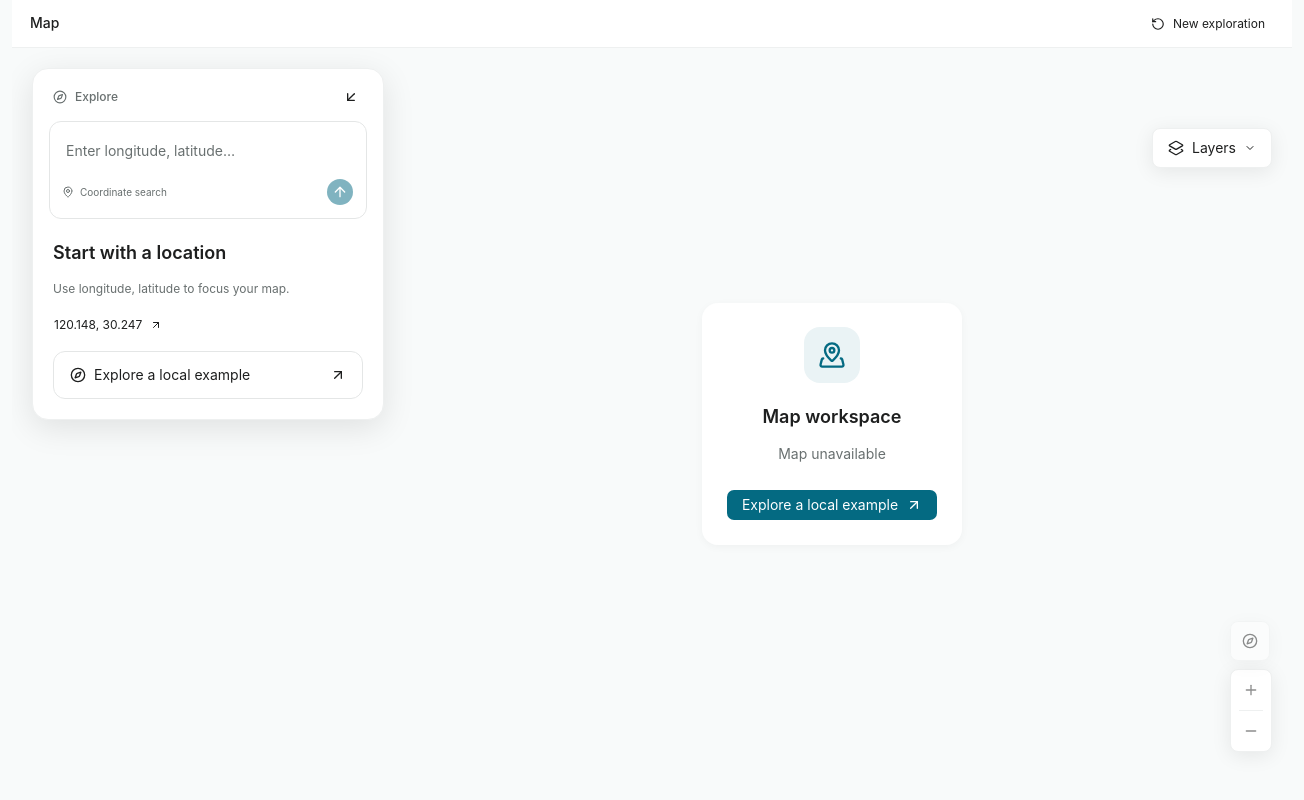
Test: does not claim free-form or sample coordinate searches are live
The width and height of the screenshot is (1304, 800).
Type "London" into the field named "Search map". click: (208,150)
box: [58,130,358,170]
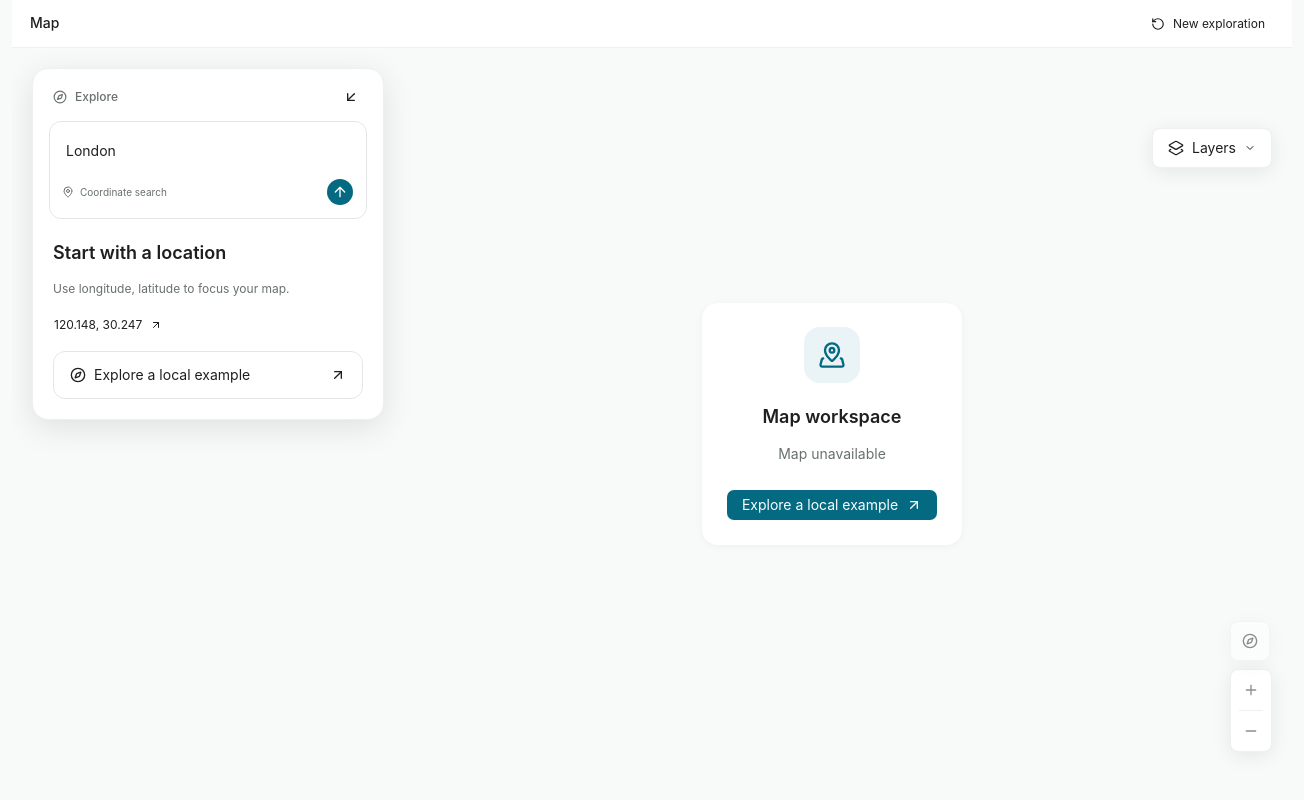
Click the button named "Search map". click: (340,192)
box: [326,178,354,206]
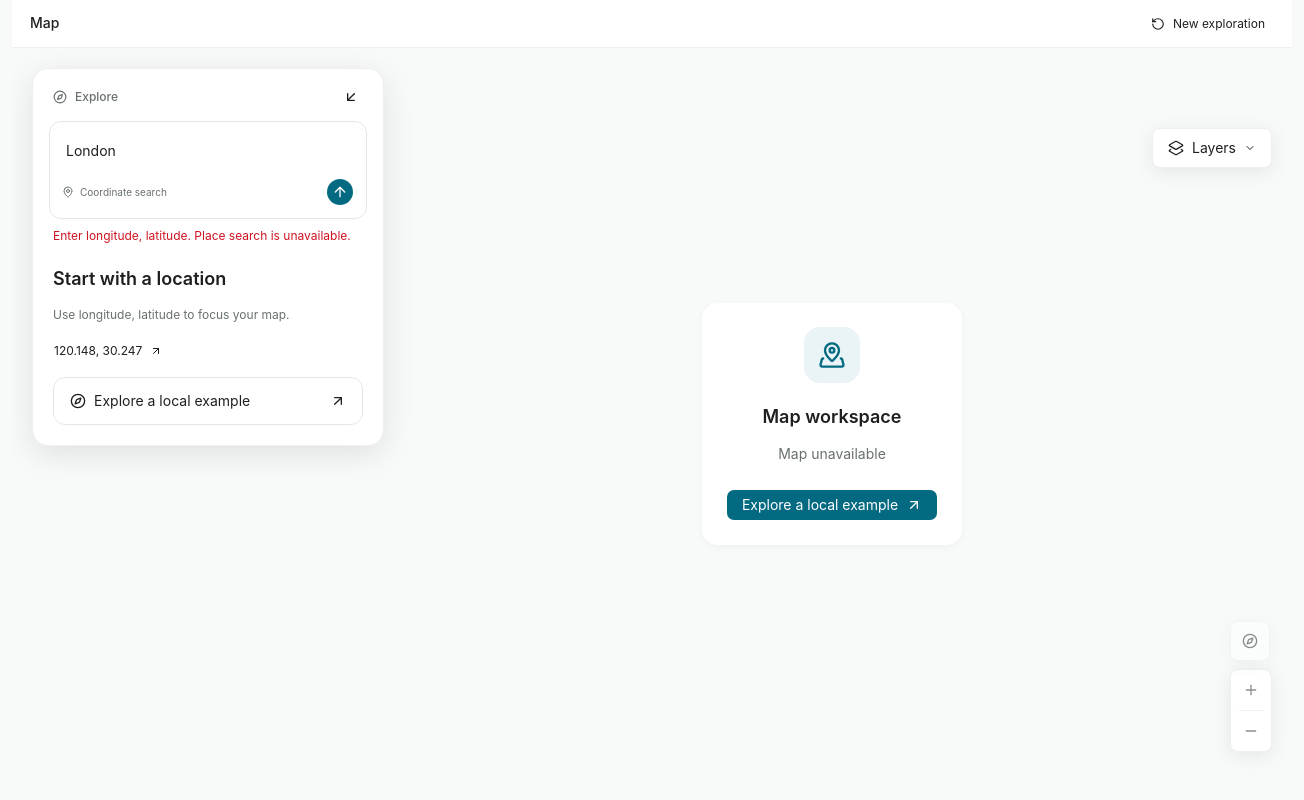
Expected: the message "Enter longitude, latitude. Place search is unavailable." is shown, [49,227,367,245]
Click the button "Explore a local example" below "Start with a location". click: (208,401)
box: [53,377,363,425]
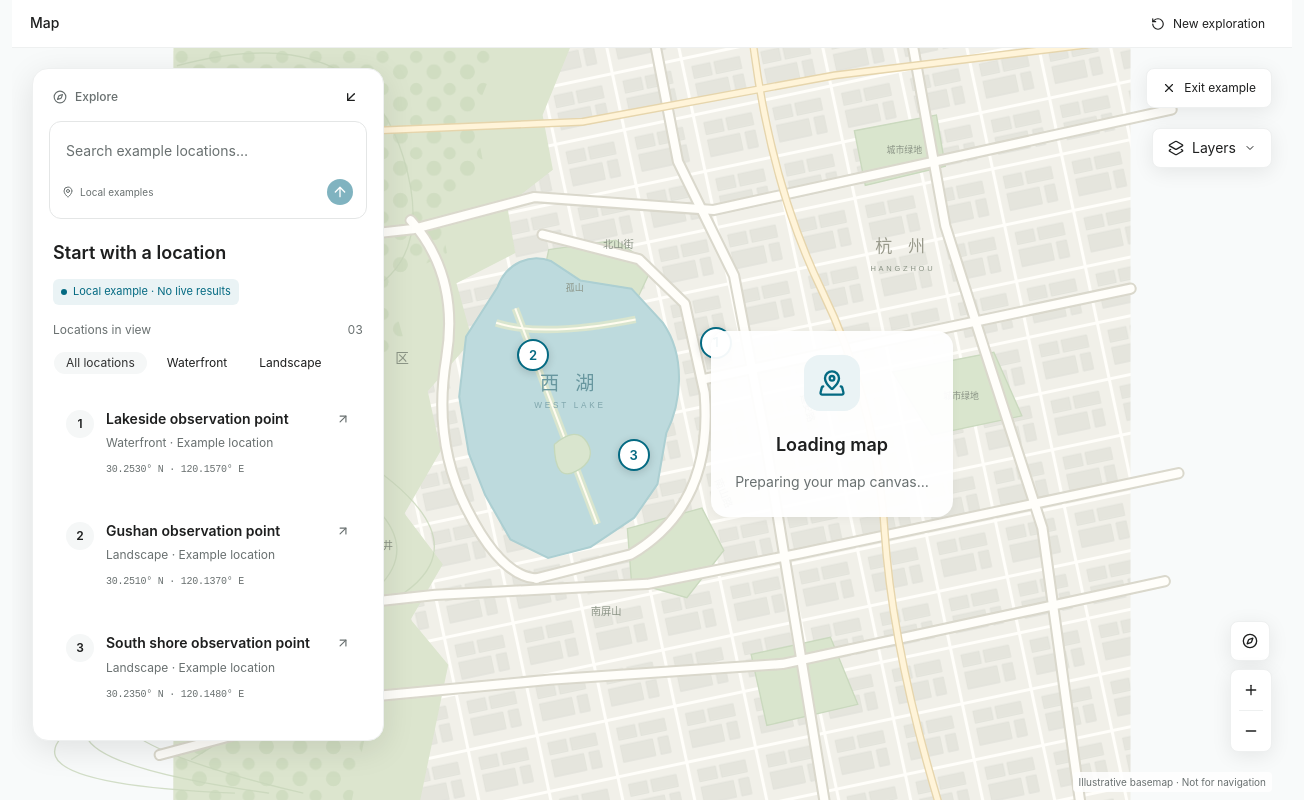
Type "120.148, 30.247" into the field named "Search map". click: (208,150)
box: [58,130,358,170]
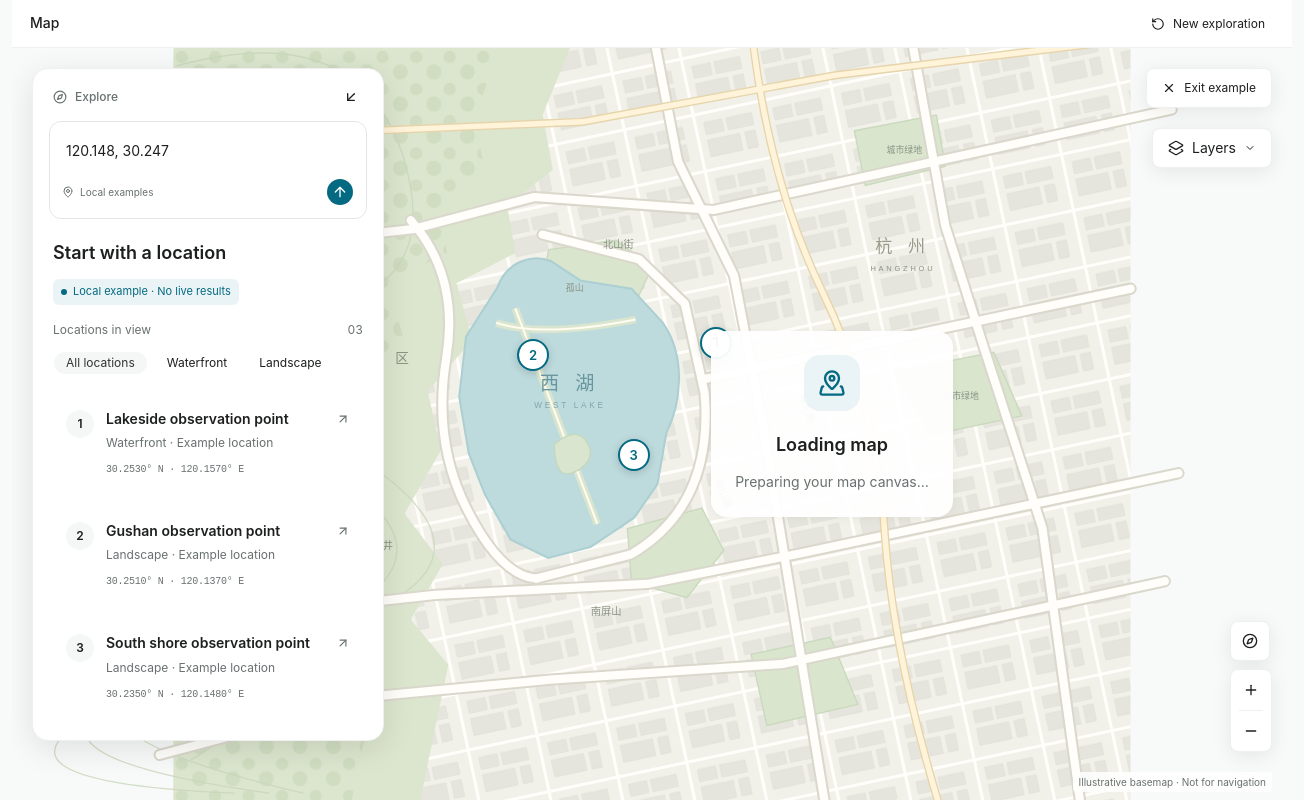
Click the button named "Search map". click: (340,192)
box: [326,178,354,206]
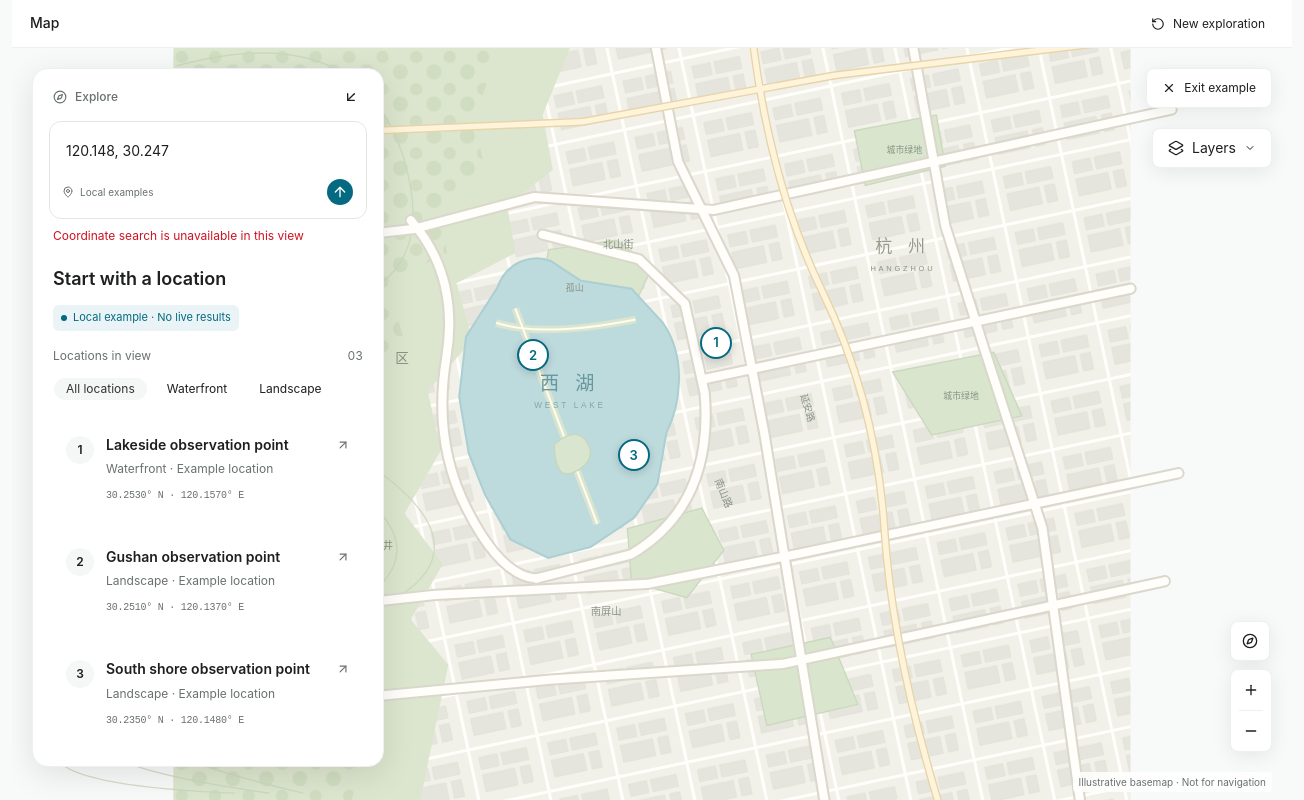
Expected: the message shows "Coordinate search is unavailable", [53,228,304,243]
